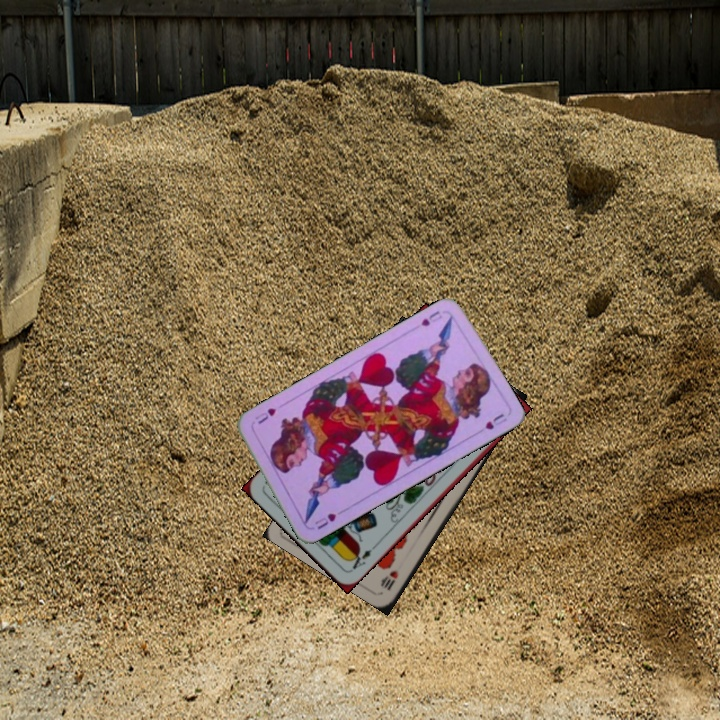EA: (346, 541, 379, 574)
H10: (378, 566, 401, 593)
HU: (311, 509, 339, 532), (417, 306, 445, 329)
